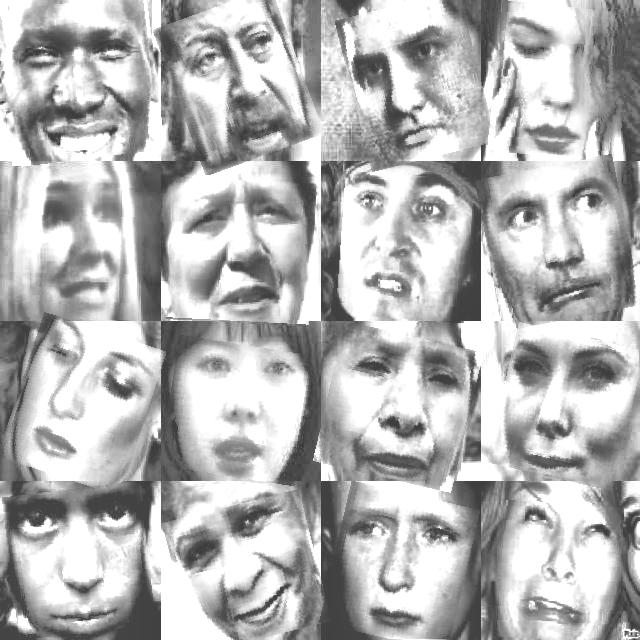angry: (168, 178, 315, 325), (334, 173, 472, 321)
fear: (17, 169, 135, 320)
happy: (0, 0, 160, 162), (482, 160, 634, 326), (169, 496, 324, 640), (494, 329, 637, 485), (494, 501, 622, 640)
neutral: (7, 320, 156, 488), (343, 0, 488, 165), (6, 485, 152, 637)
sad: (164, 0, 313, 167), (320, 328, 476, 486), (326, 487, 473, 640), (163, 340, 310, 482), (491, 3, 621, 160)
